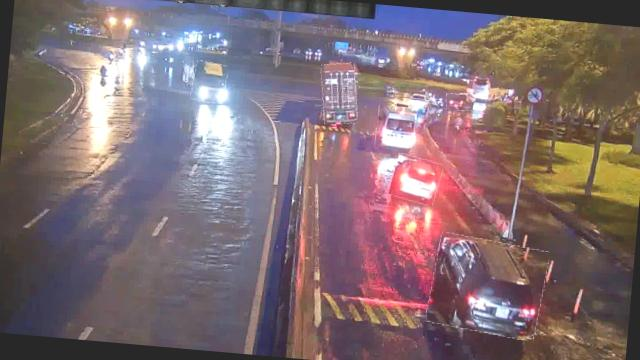Bike: (95, 62, 108, 85)
Bus: (376, 106, 418, 152)
Car: (426, 234, 548, 340), (390, 155, 443, 206), (446, 92, 474, 112)
Truck: (318, 61, 361, 126), (192, 60, 228, 104)
